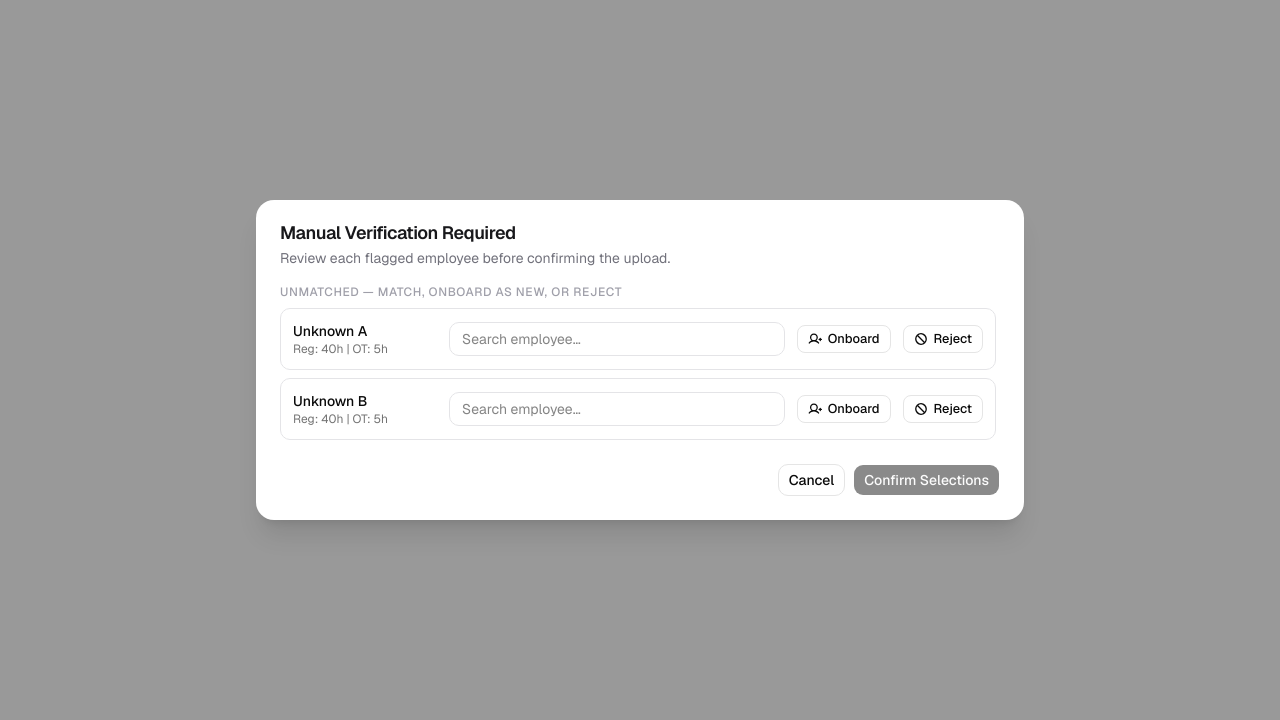
Scenario: EmployeeVerificationDialog — Unmatched row (Match / Onboard / Reject) › Confirm is disabled until every unmatched row has a decision (Match, Onboard, or Reject)
Expected: the button "Confirm Selections" is disabled, [853,464,1000,496]
Decide ONLY the first row — Confirm should still be disabled
What coordinates should you click on to do the following:
click the button "Reject" in the row of "Unknown A"
I would click on:
 (943, 339)
Its box is [902,325,983,353].
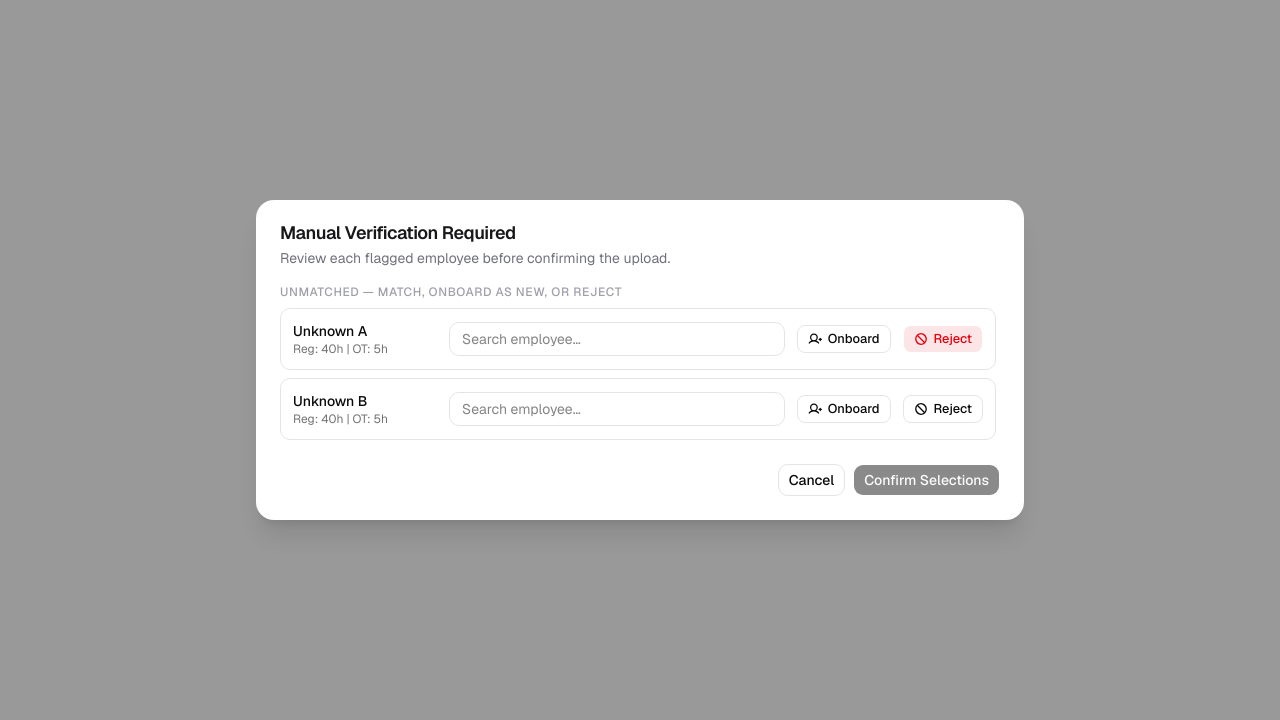
Expected: the button "Confirm Selections" is disabled, [853,464,1000,496]
Decide the second row — Confirm should now enable
What coordinates should you click on to do the following:
click the button "Reject" in the row of "Unknown B"
I would click on:
 (943, 409)
Its box is [902,395,983,423].
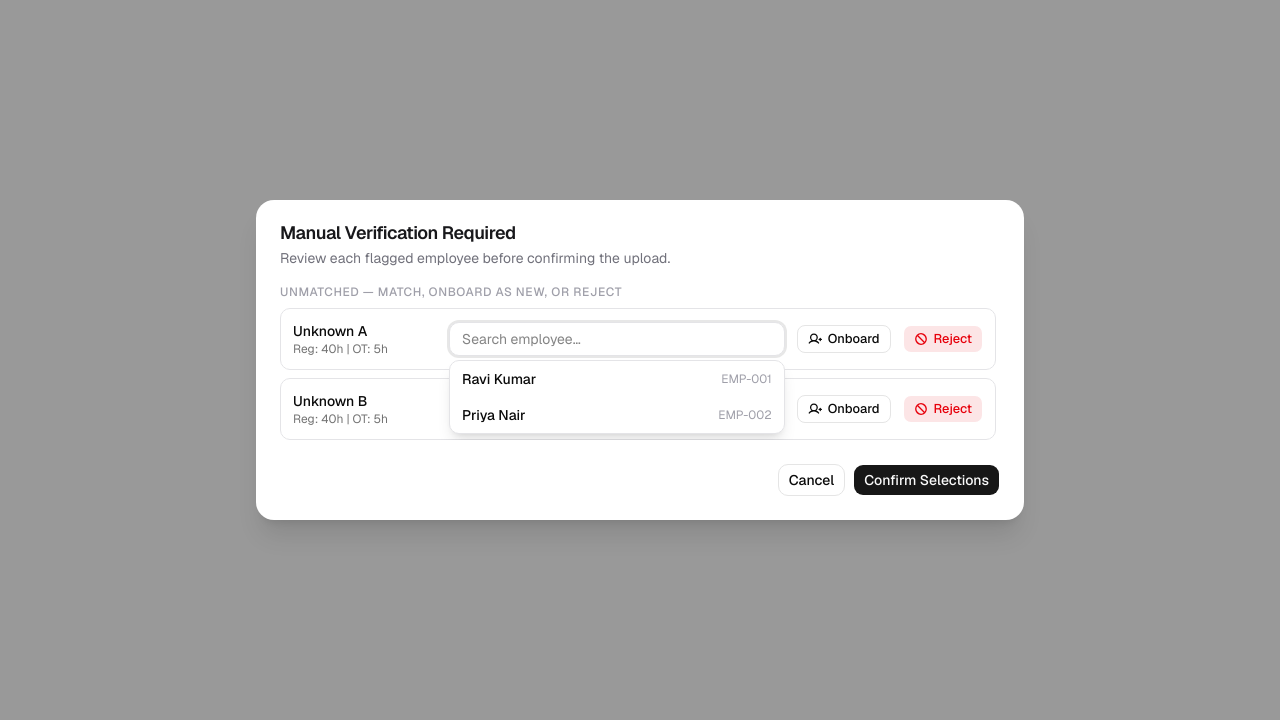
Result: the button "Confirm Selections" is enabled at [853,464,1000,496]
